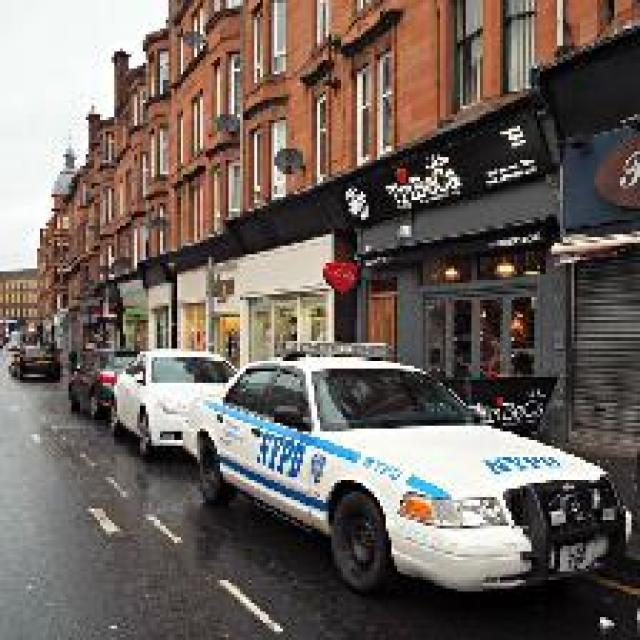emergency: (183, 341, 631, 599)
